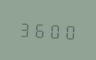six: (32, 19, 45, 39)
three: (18, 18, 31, 39)
zero: (46, 19, 59, 40), (60, 20, 73, 41)
